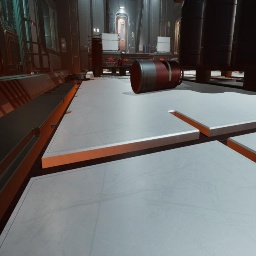0: (234, 71, 244, 73), (103, 69, 112, 71), (122, 52, 125, 53)
EmergencyPhone ,: (131, 31, 133, 37)
FireAlarm ,: (111, 32, 113, 34)
FireExtinguisher ]: (117, 58, 123, 66), (116, 50, 122, 53)
FirstAidBox ,: (156, 49, 159, 52), (181, 70, 182, 71)
NitrogenTank ,: (130, 60, 184, 94)
SafetySwitchPanel ,: (61, 38, 66, 52), (166, 52, 170, 53)
